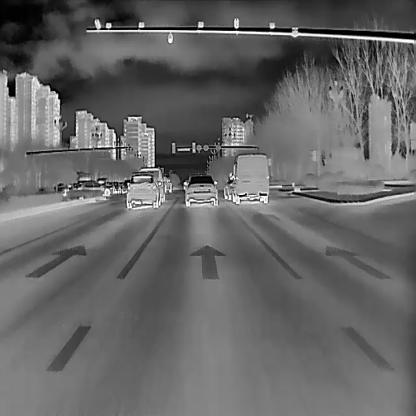car: (228, 150, 270, 202), (125, 173, 162, 208), (182, 172, 218, 206), (74, 178, 111, 197), (222, 177, 234, 199), (162, 174, 173, 192)
